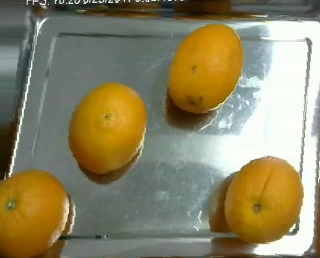Orange: (67, 81, 148, 174), (167, 22, 244, 115), (223, 156, 304, 244), (0, 168, 71, 257)
